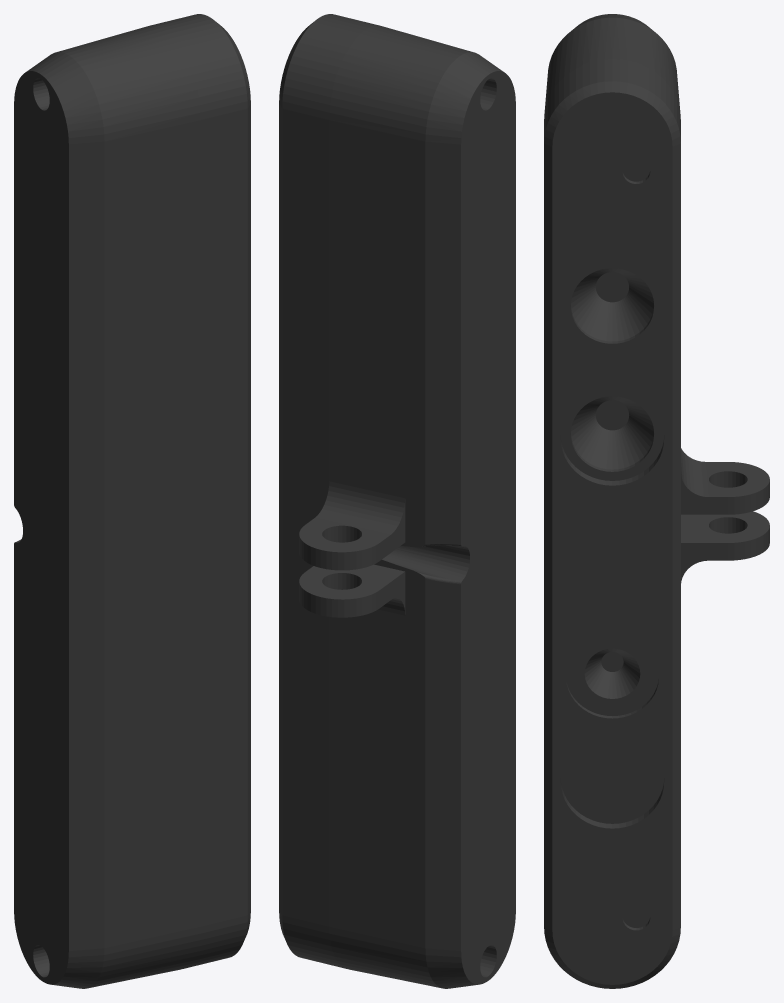
Rendered from xtion_pro_live.dae.
3 renders of one model, left to right at view 1: azimuth 30°, elevation 25°; view 2: azimuth 150°, elevation 25°; view 3: azimuth 270°, elevation 25°, orthographic. The views are drawn at different scales.
Visible parts, largest first — view 1: node; view 2: node; view 3: node.
Boxes of the visible parts, <box> form: node: <box>14,14,250,988</box>; node: <box>279,14,515,988</box>; node: <box>544,14,769,988</box>.
Size of the model in its own units: 0.036 by 0.18 by 0.0406.
